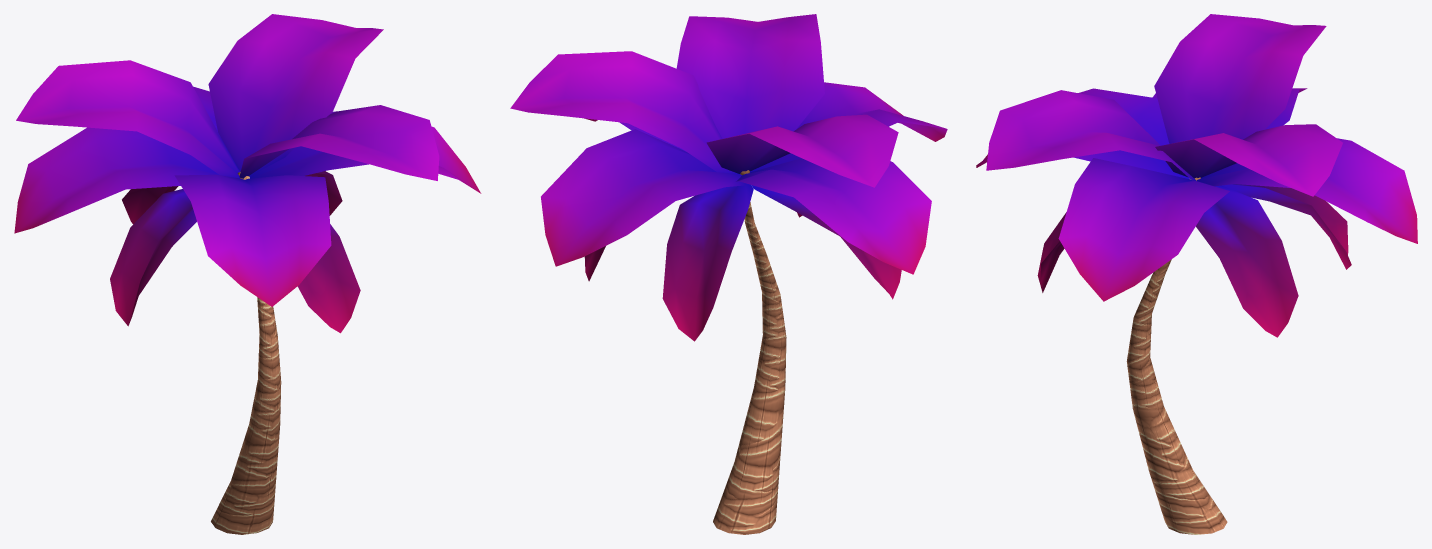
Rendered from Tree_Palmier_03.fbx.
The picture shows the model from 3 angles, left to right: view 1: azimuth 30°, elevation 25°; view 2: azimuth 150°, elevation 25°; view 3: azimuth 270°, elevation 25°; orthographic projection.
Visible parts, largest first — view 1: Palmier_03; view 2: Palmier_03; view 3: Palmier_03.
Boxes of the visible parts, x1,y1,x2,y2 form: Palmier_03: (14, 14, 481, 534); Palmier_03: (510, 14, 947, 534); Palmier_03: (976, 14, 1417, 534).
Bounding box in the file's own units: 444 × 475 × 434.
